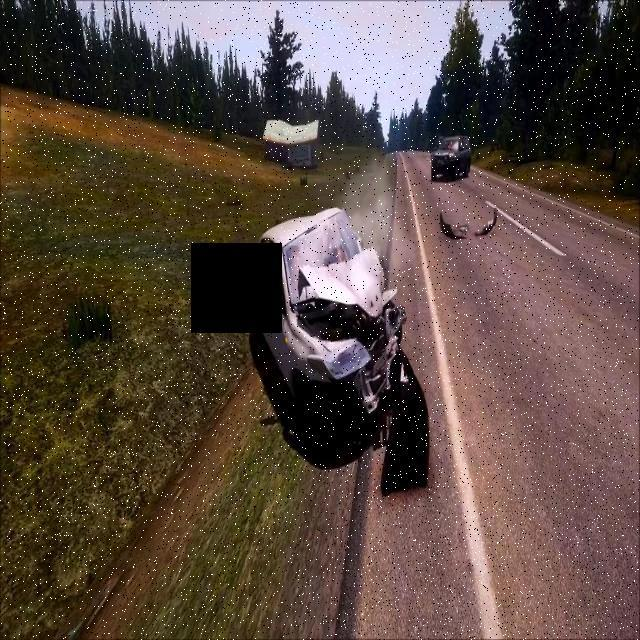severe: (248, 198, 408, 439)
